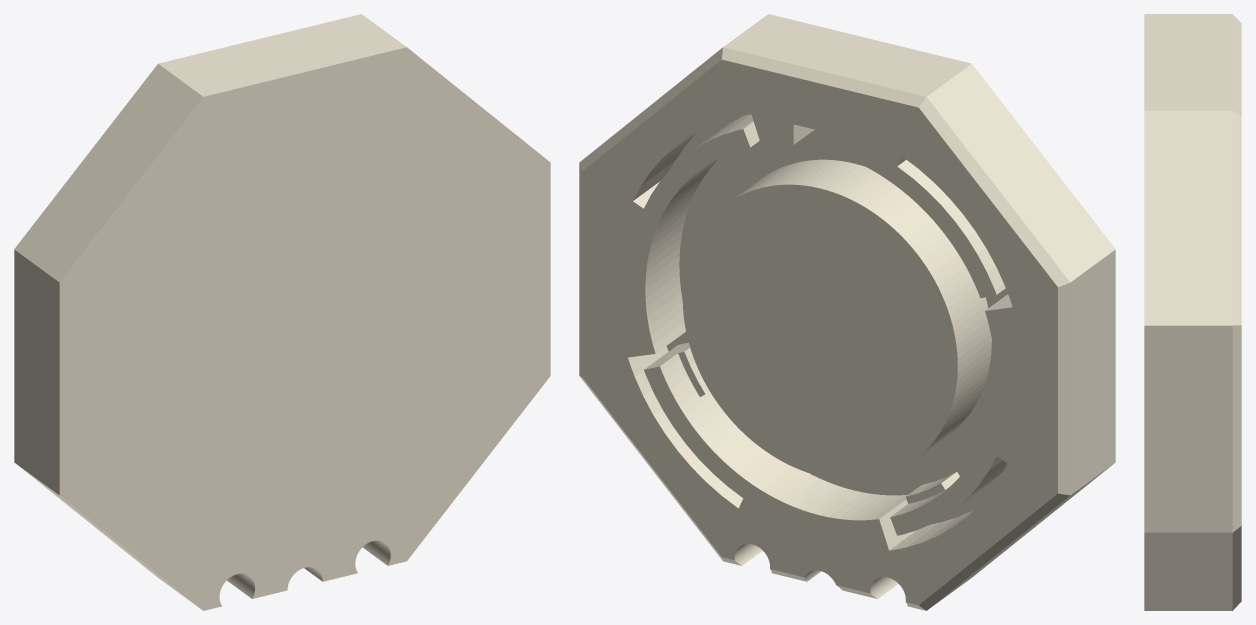
File: coupon-if2-socket-20@ivory.glb
3 views of the same model, side by side, from view 1: azimuth 30°, elevation 25°; view 2: azimuth 150°, elevation 25°; view 3: azimuth 270°, elevation 25° (orthographic). The views are drawn at different scales.
Parts seen in each view (by area): view 1: geometry_0; view 2: geometry_0; view 3: geometry_0.
Boxes of the visible parts, box(x1,y1,x2,y2) form: geometry_0: box(14, 14, 550, 610); geometry_0: box(579, 14, 1115, 610); geometry_0: box(1144, 14, 1241, 610).
Size of the model in its own units: 25 by 25 by 4.4.
